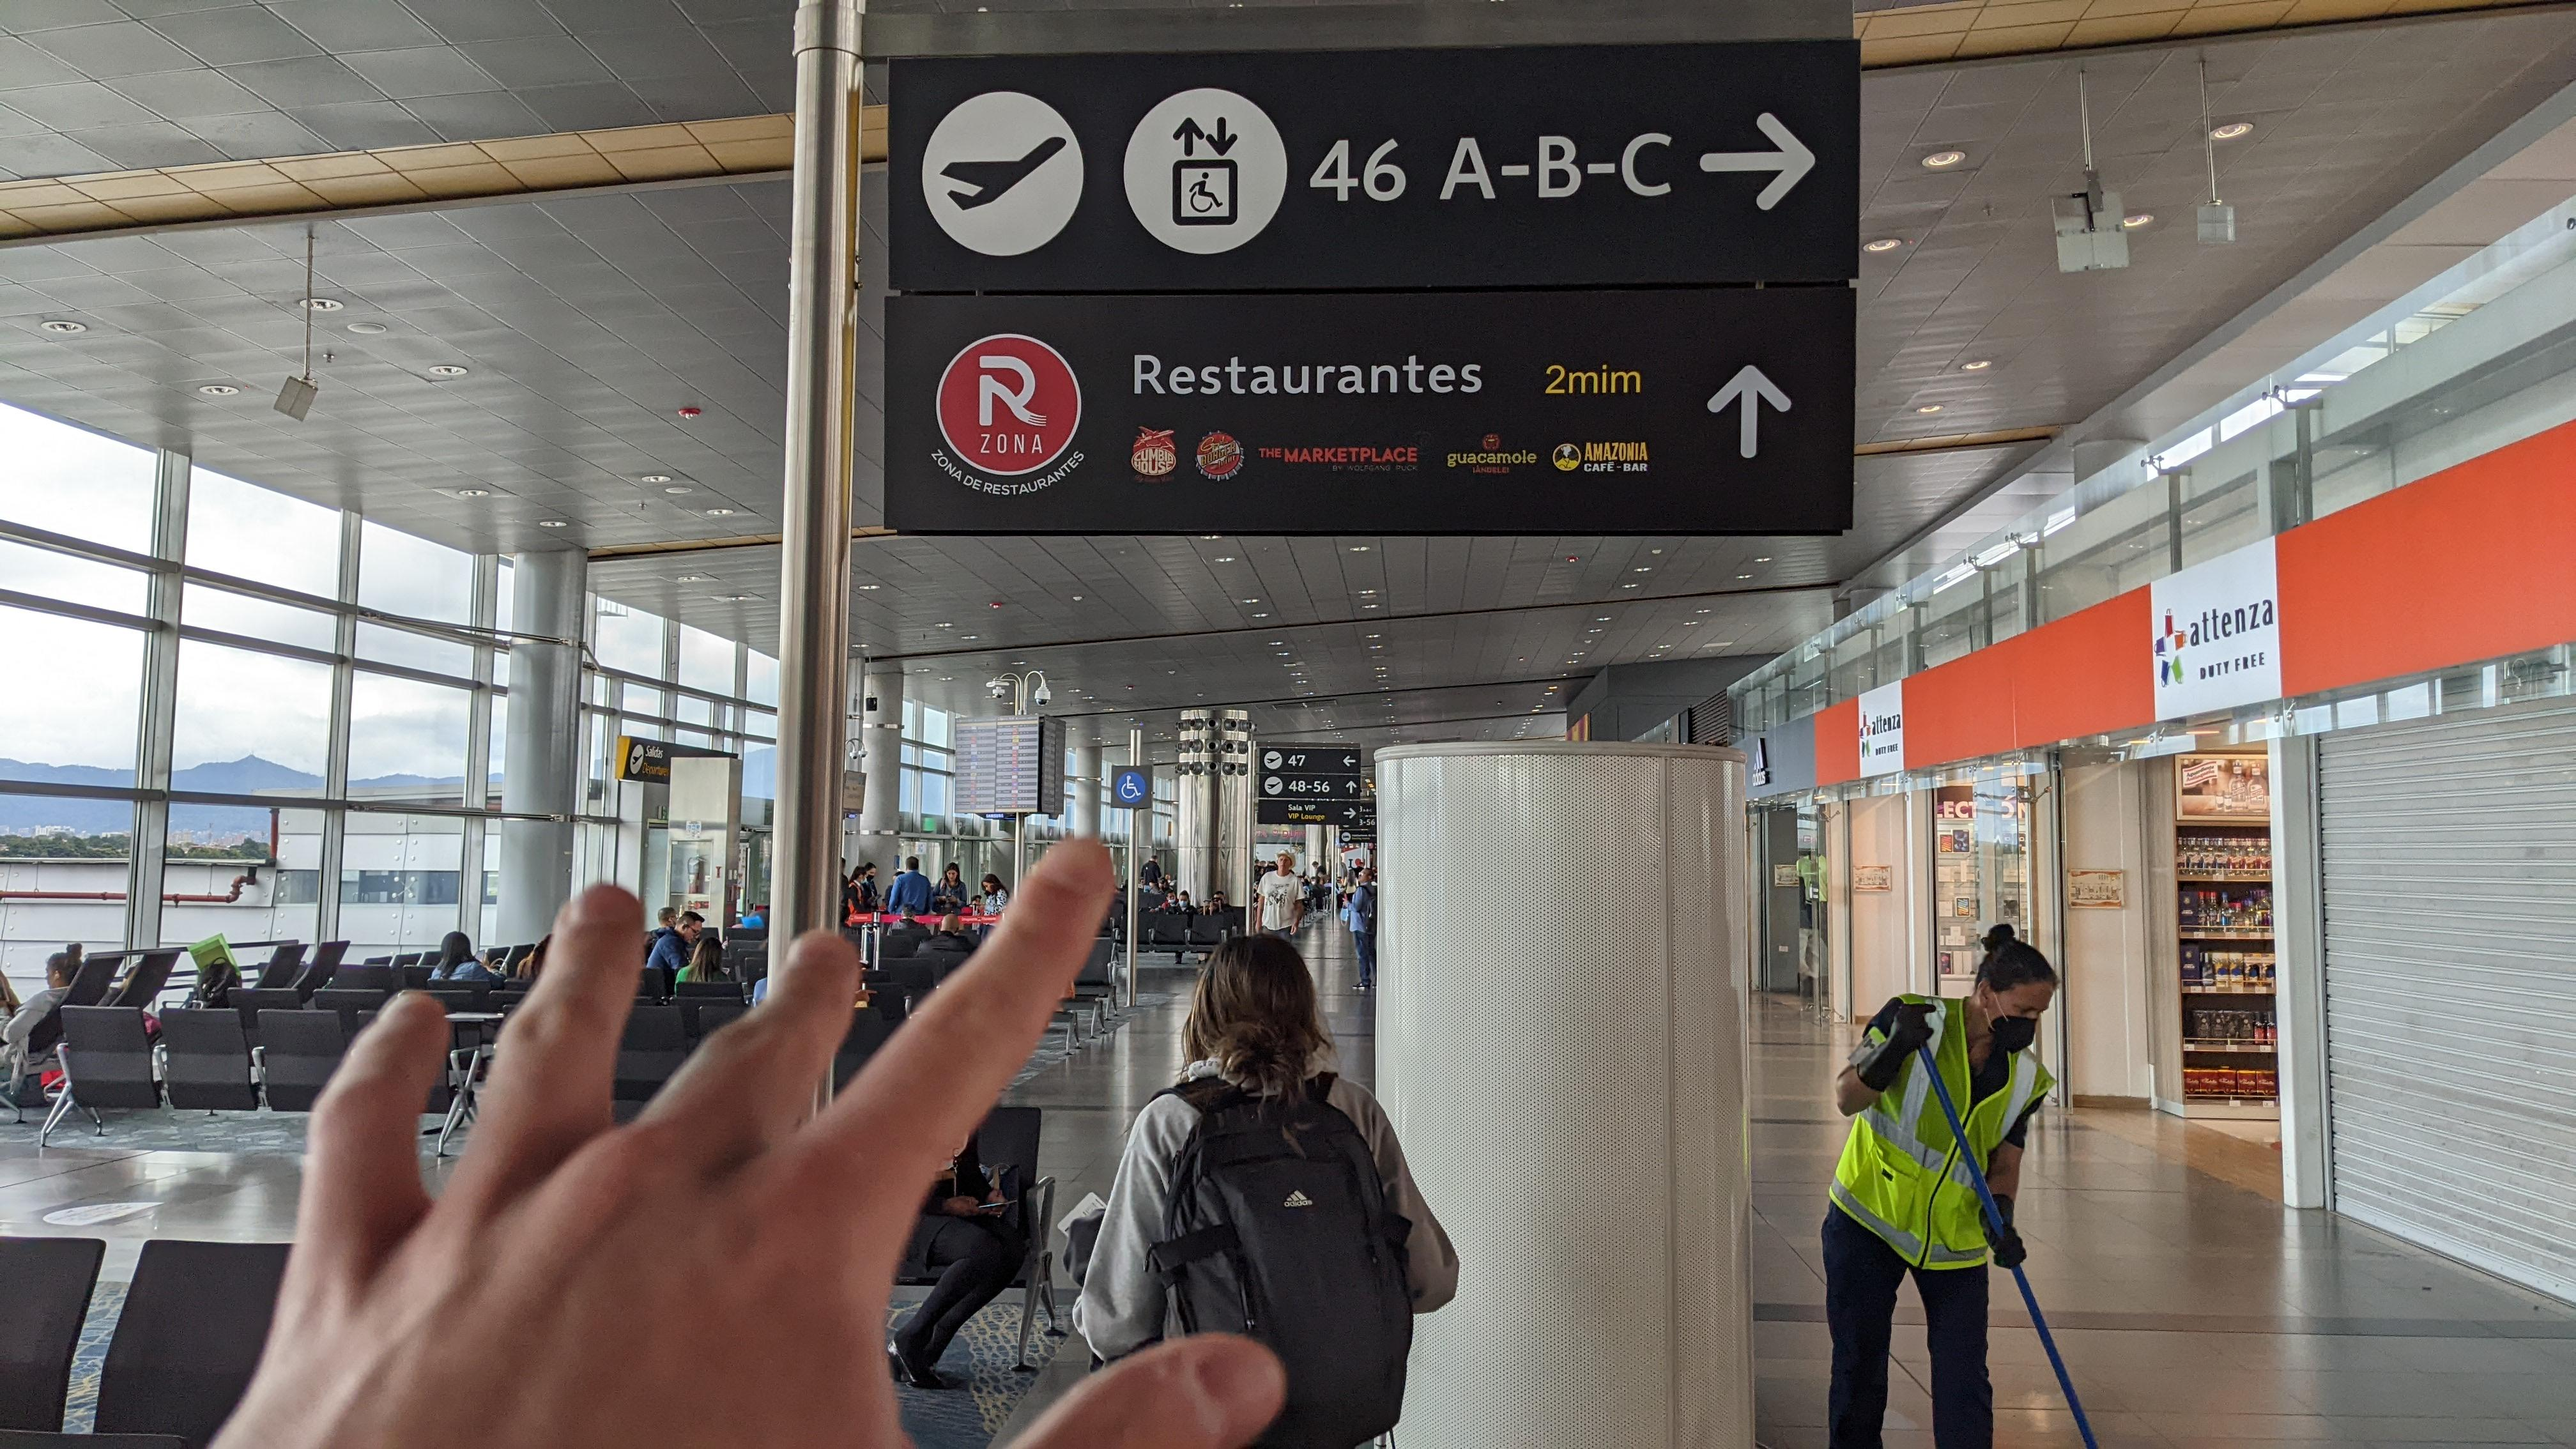airplane symbol: (939, 131, 1072, 216), (1185, 170, 1226, 214), (1267, 755, 1281, 764), (1267, 780, 1281, 789)
down arrow: (1205, 115, 1238, 159)
handicapped symbol: (1122, 775, 1143, 800)
left arrow: (1341, 754, 1357, 768)
right arrow: (1693, 108, 1821, 218), (1341, 807, 1357, 819)
up arrow: (1704, 361, 1796, 464), (1171, 115, 1205, 159), (1345, 780, 1357, 794)
